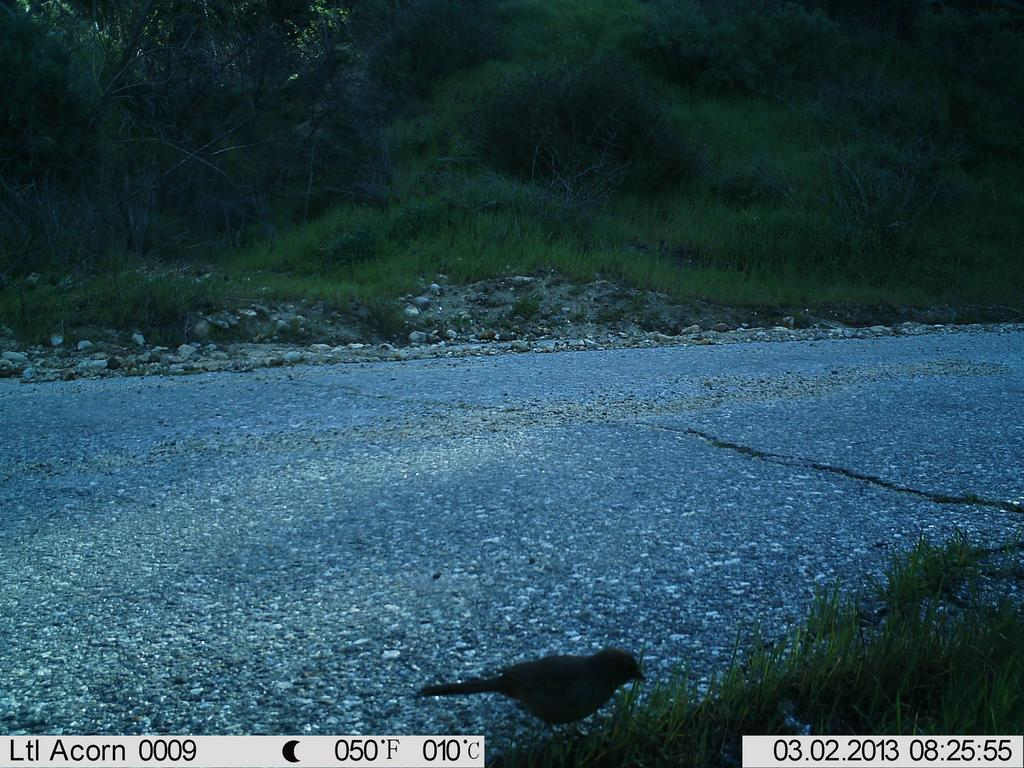bird: (410, 637, 652, 741)
